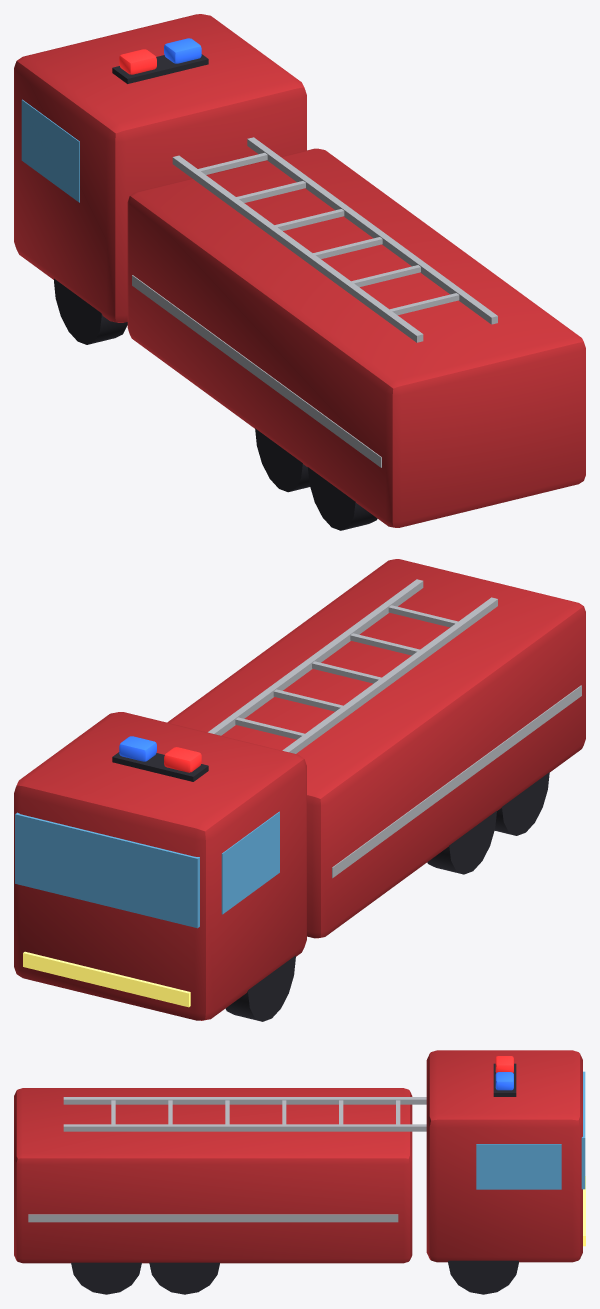
File: fire-truck.glb
The picture shows the model from 3 angles, top to bottom: view 1: azimuth 30°, elevation 25°; view 2: azimuth 150°, elevation 25°; view 3: azimuth 270°, elevation 25°; orthographic projection. The views are drawn at different scales.
Visible parts, largest first — view 1: body; view 2: body; view 3: body.
Boxes of the visible parts, x1,y1,x2,y2 form: body: (14,14,585,530); body: (14,559,585,1021); body: (14,1050,585,1294).
Bounding box in the file's own units: 2.42 × 2.97 × 8.04.
